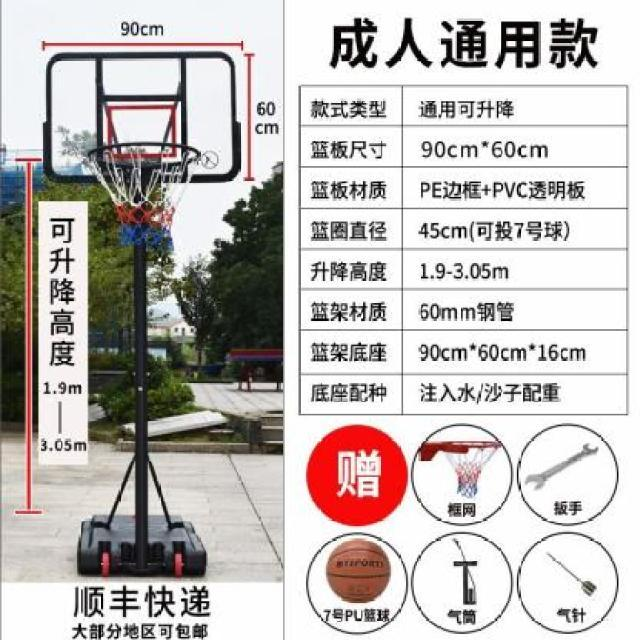basketball: (327, 537, 389, 603)
rim: (80, 141, 202, 247)
